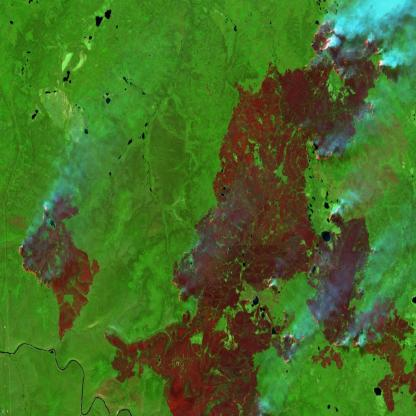fire: (293, 20, 387, 169), (274, 294, 363, 366), (11, 206, 56, 296), (322, 196, 342, 230)
